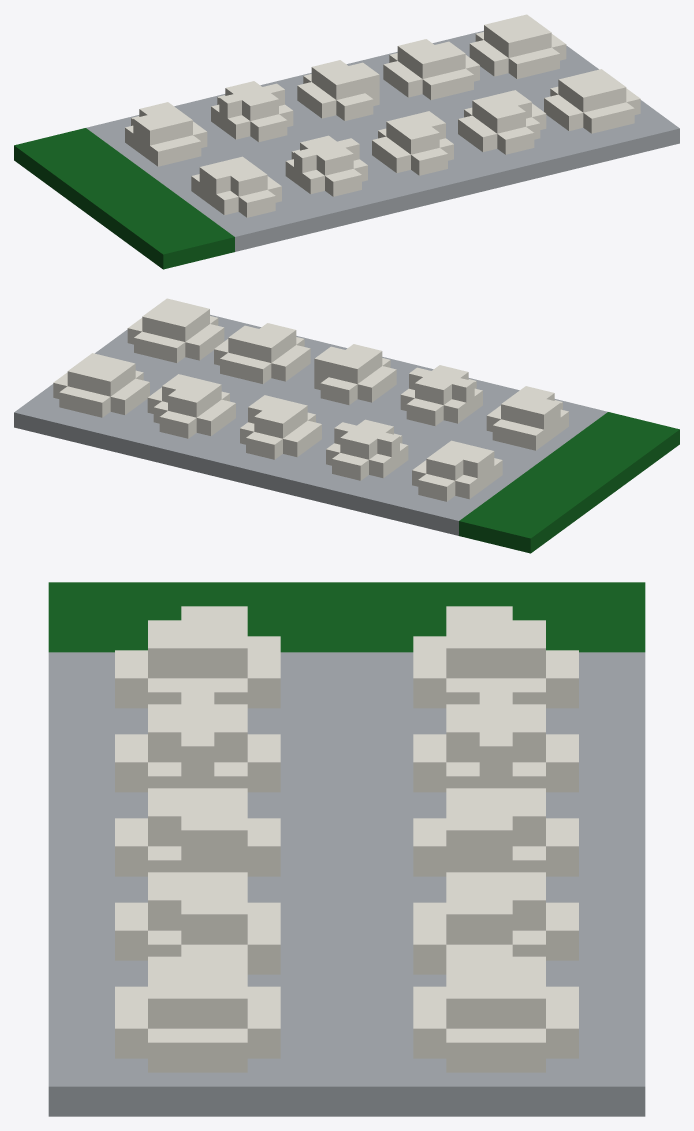
Rendered from narrow_spectrum_antibiotic.glb.
The picture shows the model from 3 angles, top to bottom: view 1: azimuth 30°, elevation 25°; view 2: azimuth 150°, elevation 25°; view 3: azimuth 270°, elevation 25°; orthographic projection. The views are drawn at different scales.
Visible parts, largest first — view 1: narrow_spectrum_antibiotic:compound; view 2: narrow_spectrum_antibiotic:compound; view 3: narrow_spectrum_antibiotic:compound.
Part boxes in pixels (<box>): narrow_spectrum_antibiotic:compound: <box>14,14,679,269</box>; narrow_spectrum_antibiotic:compound: <box>14,298,679,553</box>; narrow_spectrum_antibiotic:compound: <box>48,582,645,1116</box>.
Size of the model in its own units: 0.072 by 0.006 by 0.036.
